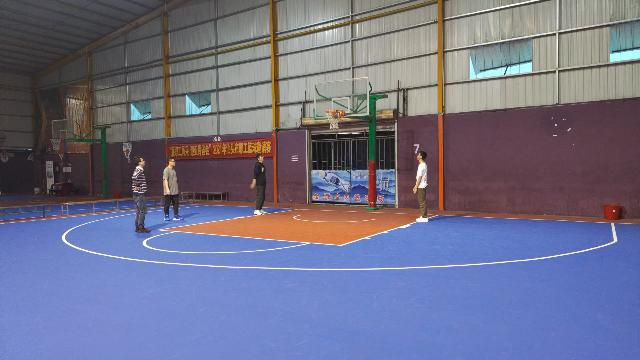basket: (324, 108, 344, 130), (50, 137, 64, 149)
goal: (330, 109, 340, 118)
